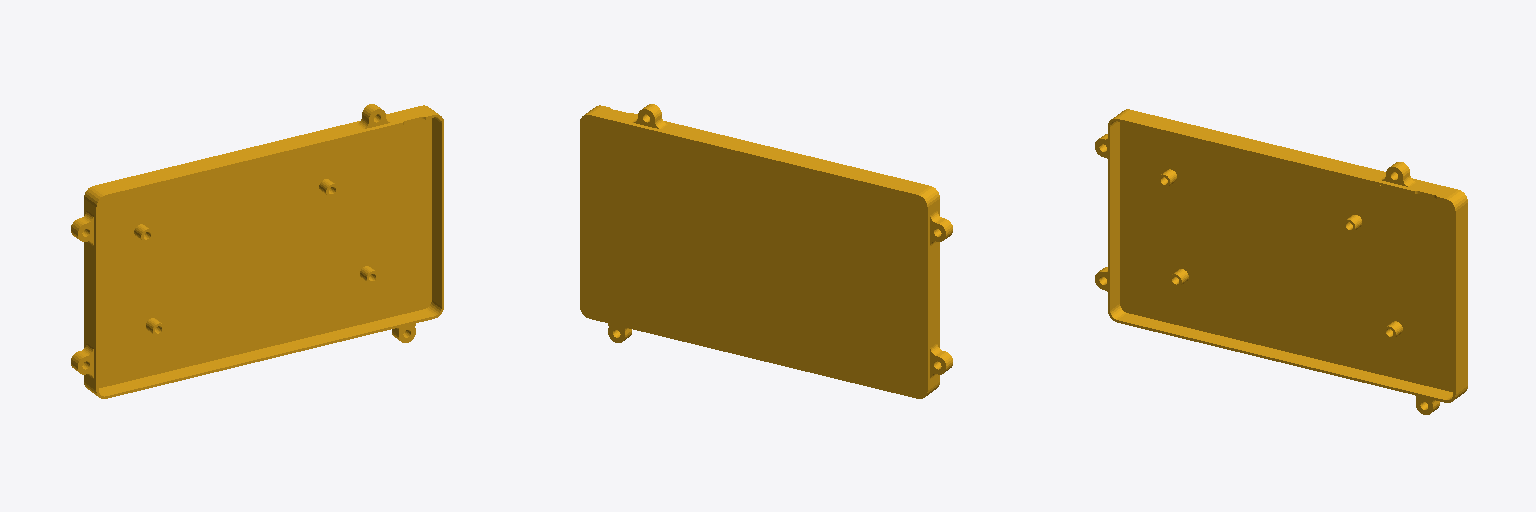
File: thebarebones.obj
3 views of the same model, side by side, from view 1: azimuth 30°, elevation 25°; view 2: azimuth 150°, elevation 25°; view 3: azimuth 330°, elevation 25° (orthographic).
Parts seen in each view (by area): view 1: Bearbones; view 2: Bearbones; view 3: Bearbones.
Boxes of the visible parts, box(x1,y1,x2,y2) form: Bearbones: box(71, 104, 443, 398); Bearbones: box(580, 104, 952, 398); Bearbones: box(1095, 109, 1467, 414).
Bounding box in the file's own units: 14.97 × 9.47 × 0.9.